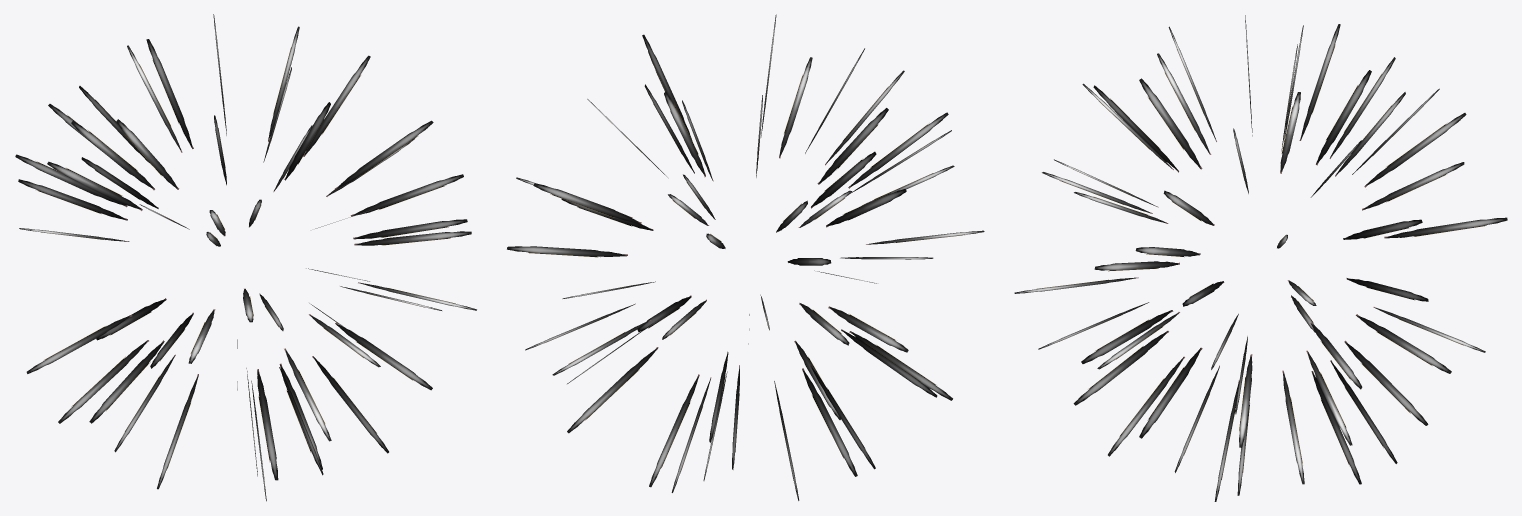
3 views of the same model, side by side, from view 1: azimuth 30°, elevation 25°; view 2: azimuth 150°, elevation 25°; view 3: azimuth 270°, elevation 25° (orthographic).
Visible parts, largest first — view 1: T1L2M009_51; view 2: T1L2M009_51; view 3: T1L2M009_51.
Boxes of the visible parts, <box> form: T1L2M009_51: <box>15,14,476,501</box>; T1L2M009_51: <box>507,14,984,500</box>; T1L2M009_51: <box>1014,15,1507,501</box>.
Bounding box in the file's own units: 3.85 × 3.83 × 3.94.
